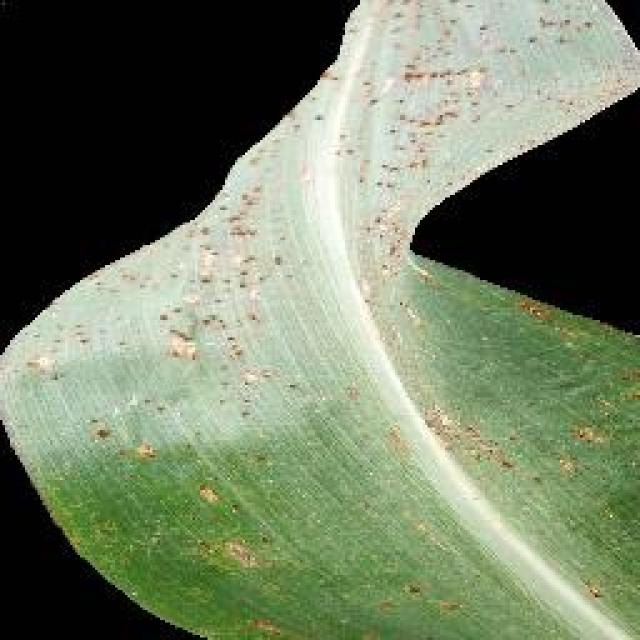Corn Common Rust: (94, 52, 544, 473)
